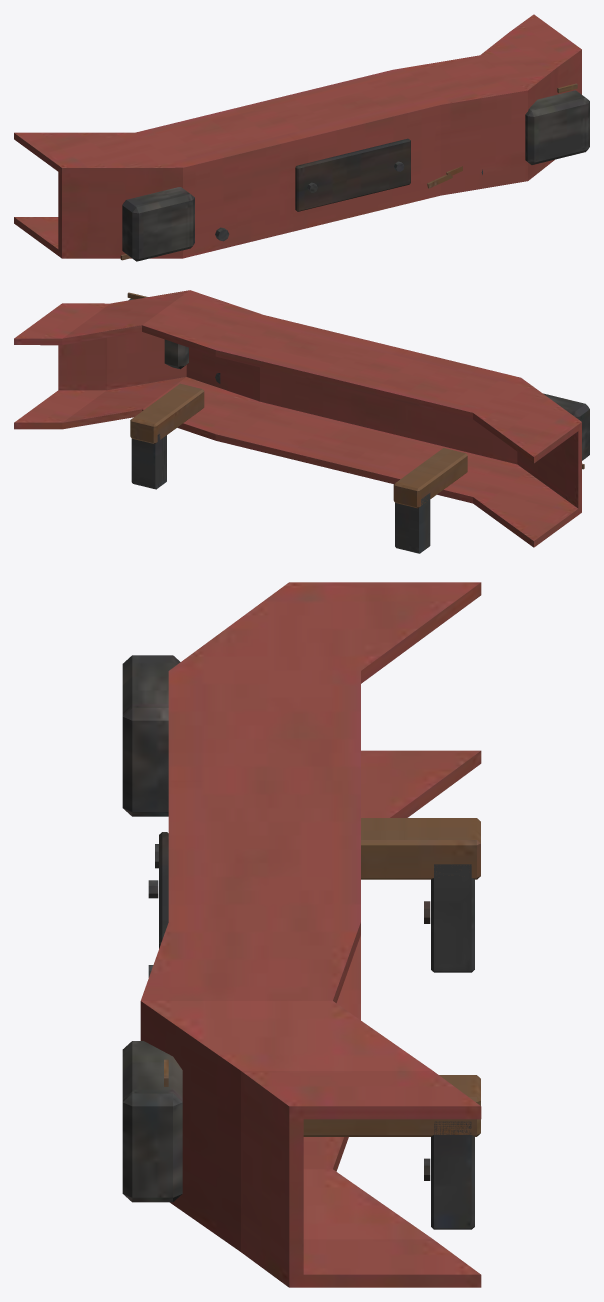
Rendered from JV20_bumper_pieces_v2.glb.
3 renders of one model, top to bottom at view 1: azimuth 30°, elevation 25°; view 2: azimuth 150°, elevation 25°; view 3: azimuth 270°, elevation 25°, orthographic. The views are drawn at different scales.
Visible parts, largest first — view 1: Dented red lorry bumper; view 2: Dented red lorry bumper; view 3: Dented red lorry bumper.
Part boxes in pixels (x1=…): Dented red lorry bumper: x1=14, y1=14, x2=589, y2=261; Dented red lorry bumper: x1=14, y1=290, x2=589, y2=553; Dented red lorry bumper: x1=122, y1=582, x2=481, y2=1287.
Bounding box in the file's own units: 1.5 × 0.35 × 0.448.
5 materials, 5 textured.
